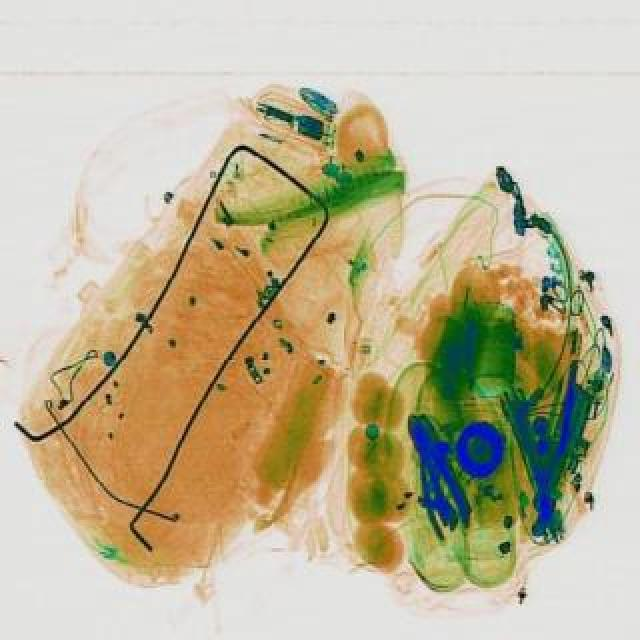wrench: (388, 408, 476, 540)
